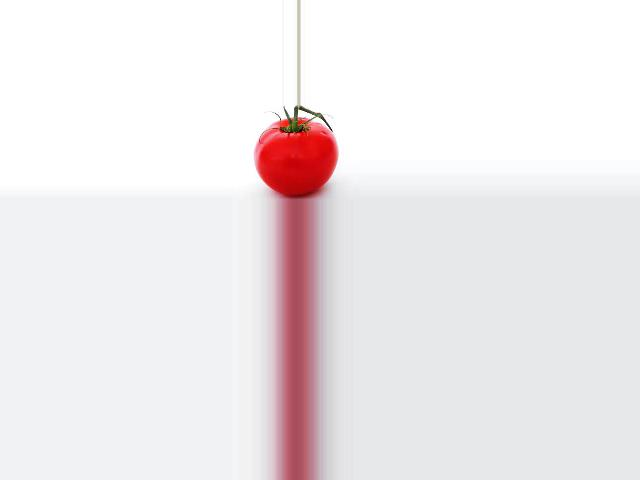tomato: (252, 118, 337, 196)
